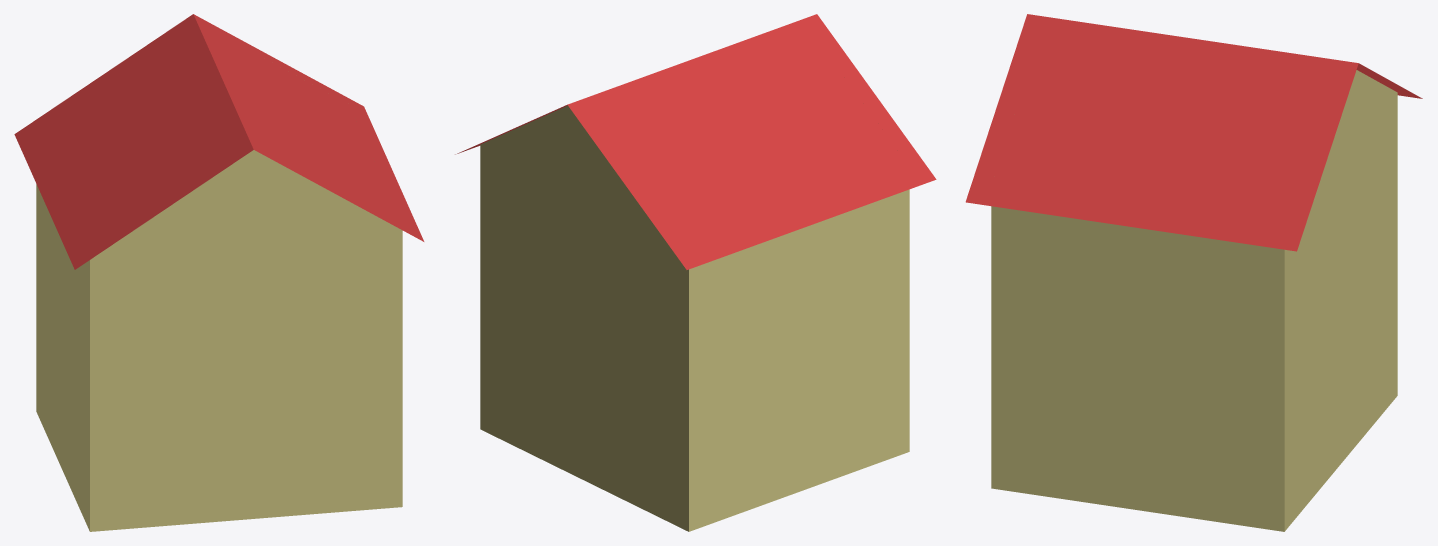
3 renders of one model, left to right at view 1: azimuth 30°, elevation 25°; view 2: azimuth 150°, elevation 25°; view 3: azimuth 270°, elevation 25°, orthographic. The views are drawn at different scales.
Bounding box in the file's own units: 11.75 × 11.28 × 11.01.
